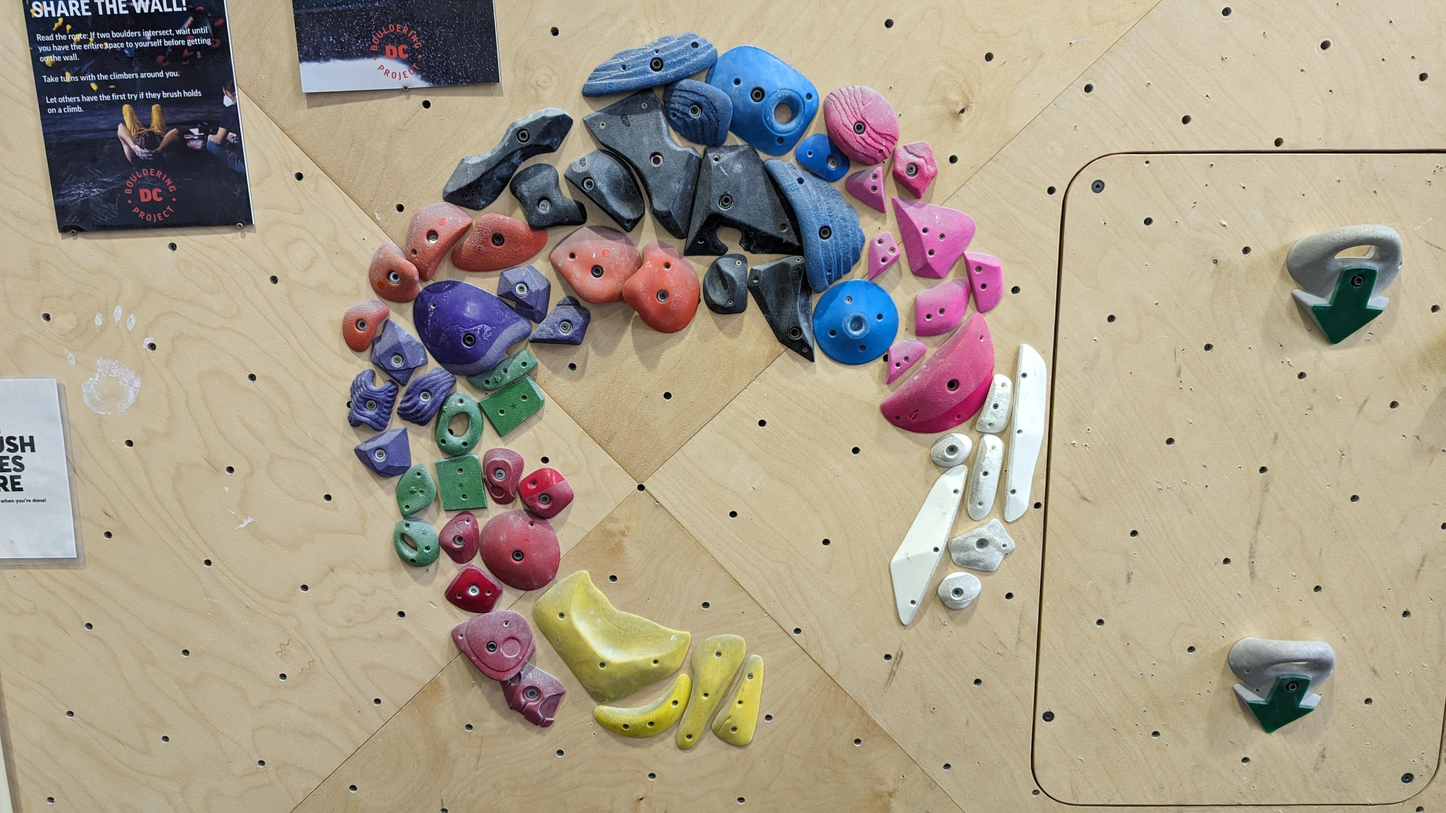black-hold: (508, 557, 699, 730), (581, 75, 735, 248), (1269, 192, 1431, 350), (875, 308, 1029, 461), (431, 88, 582, 226), (394, 249, 538, 393), (687, 29, 831, 167), (869, 453, 980, 628), (763, 138, 878, 297), (649, 620, 753, 755), (542, 206, 660, 324), (681, 143, 802, 257), (464, 491, 580, 607), (573, 23, 723, 106), (806, 68, 916, 178), (612, 235, 718, 342), (1226, 637, 1337, 736), (742, 253, 830, 374), (446, 589, 548, 690), (559, 136, 663, 234), (590, 668, 706, 755), (499, 152, 594, 252), (876, 195, 979, 286), (384, 187, 477, 285), (443, 201, 553, 281), (1003, 343, 1050, 524), (813, 279, 899, 365), (707, 648, 779, 750), (490, 654, 574, 733), (354, 237, 434, 315), (526, 289, 602, 368), (488, 252, 566, 328), (943, 512, 1022, 587), (657, 75, 736, 149), (359, 315, 435, 390), (391, 357, 460, 433), (477, 371, 551, 439), (511, 458, 579, 527), (441, 558, 509, 626), (339, 365, 403, 437), (790, 125, 859, 190), (883, 136, 947, 205), (466, 343, 541, 401), (331, 288, 394, 357), (385, 508, 448, 576), (962, 431, 1008, 524), (431, 505, 496, 570), (432, 390, 487, 459), (383, 460, 444, 520), (869, 328, 930, 386), (973, 372, 1024, 441), (351, 427, 414, 482), (434, 452, 488, 516), (915, 277, 972, 336), (849, 227, 907, 283), (963, 245, 1009, 315), (931, 561, 986, 617), (925, 423, 978, 477), (702, 253, 748, 315), (483, 448, 525, 505), (843, 164, 887, 217)
